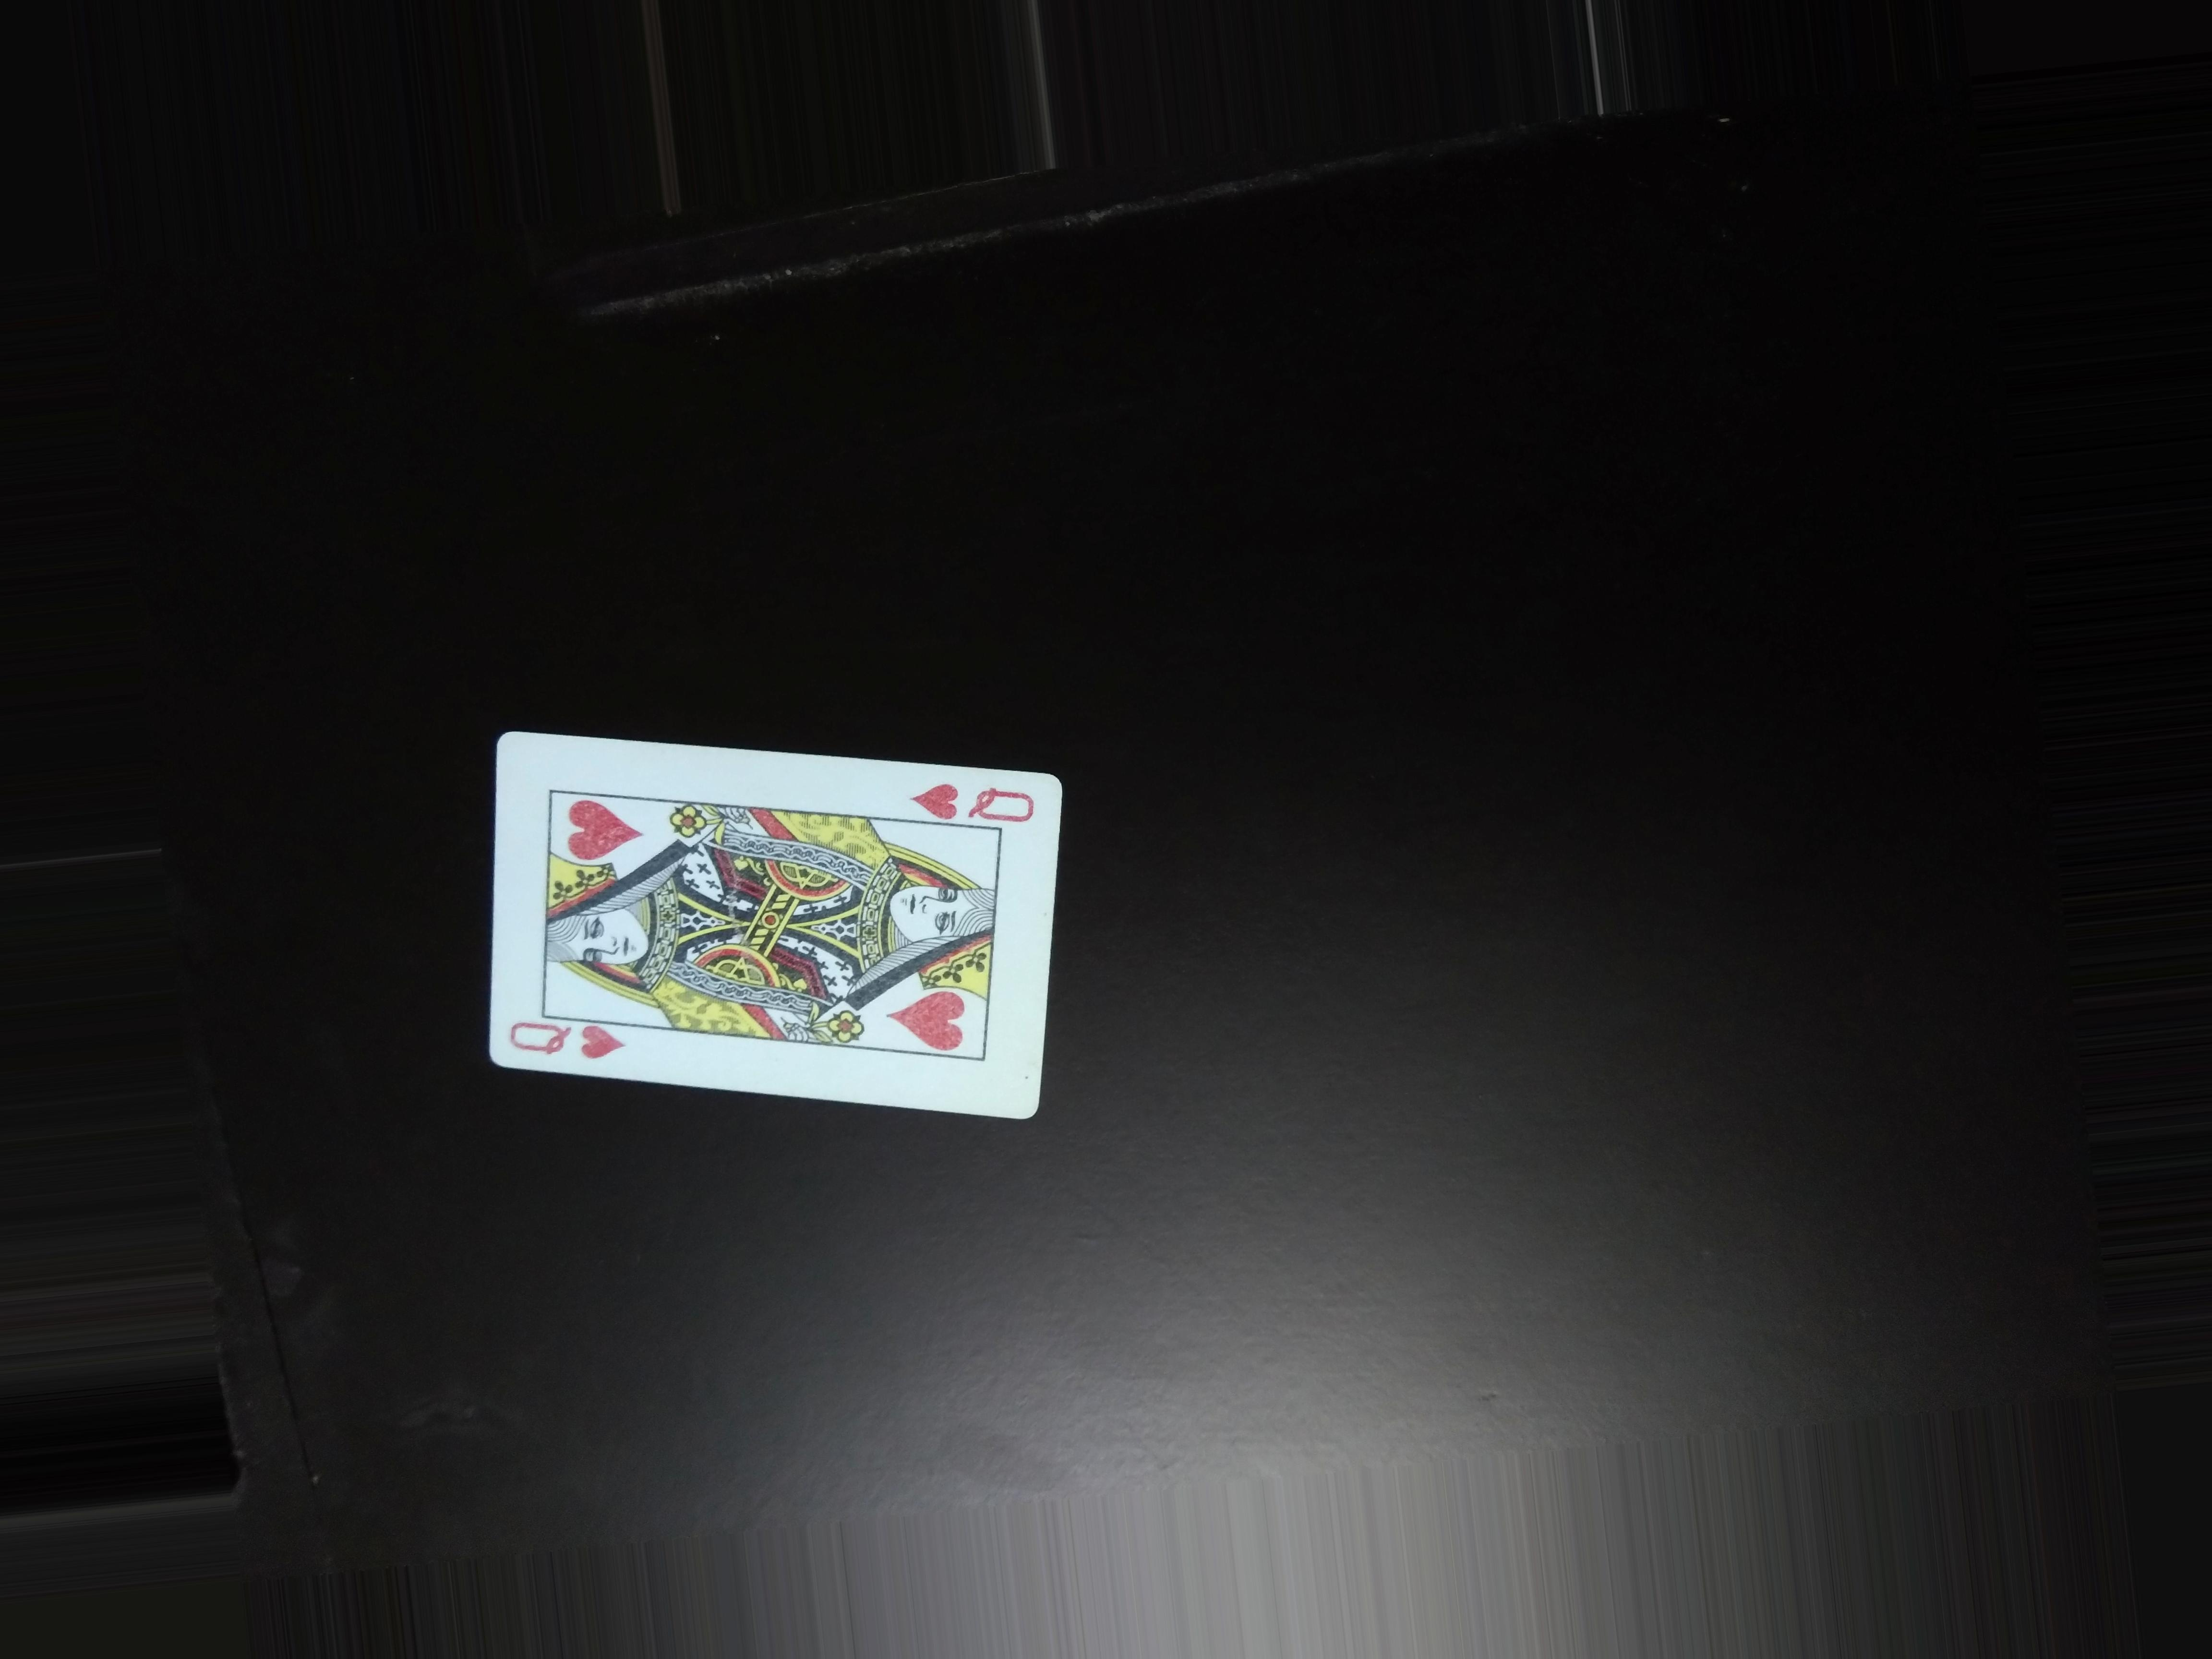QH: (909, 767, 1047, 835)
